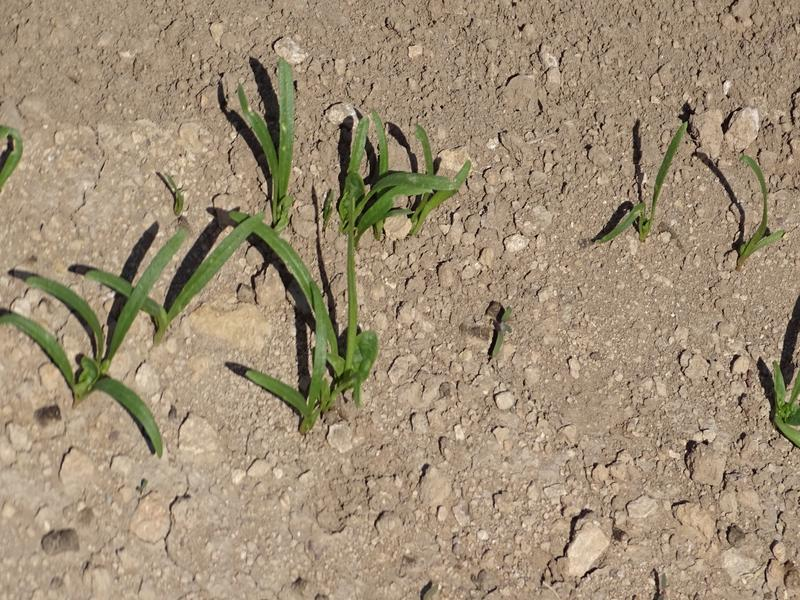Espinaca: (16, 61, 471, 460), (599, 123, 687, 256), (728, 151, 786, 270), (769, 318, 800, 446)
